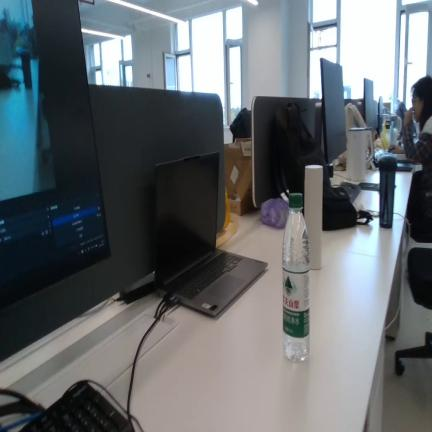bottle: (282, 193, 310, 362)
